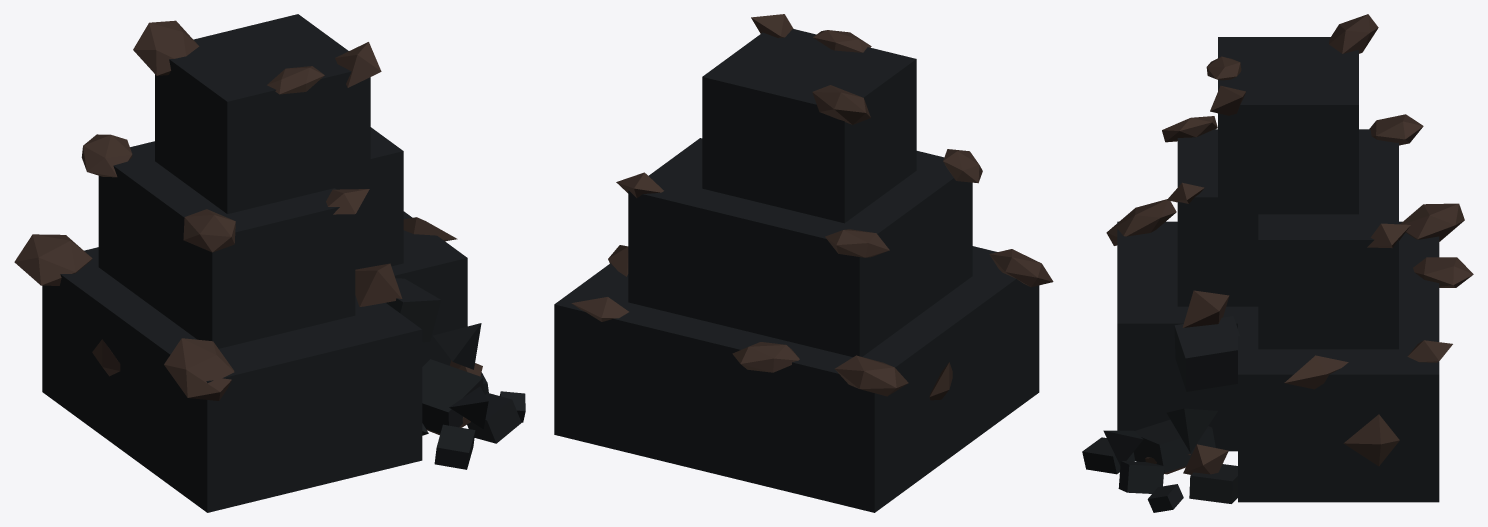
The model's file is env-ruin-block.glb.
The picture shows the model from 3 angles, left to right: view 1: azimuth 30°, elevation 25°; view 2: azimuth 150°, elevation 25°; view 3: azimuth 270°, elevation 25°; orthographic projection. The views are drawn at different scales.
Parts seen in each view (by area): view 1: tier1_wing, tier3, tier2_wing, tier1_main, tier2_main, coral_04, rubble_a, coral_01, coral_10, coral_08, tier1_broken_lip, coral_06 (+9 smaller); view 2: tier1_main, tier2_main, tier3, tier1_wing, tier2_wing, coral_01, coral_10, coral_02, coral_04, coral_06, coral_08, coral_12 (+3 smaller); view 3: tier1_main, tier3, tier2_main, tier1_wing, tier2_wing, tier1_broken_lip, rubble_a, coral_01, rubble_b, coral_04, coral_16, coral_02 (+16 smaller).
Part boxes in pixels (x1=…): tier1_wing: x1=145, y1=295, x2=422, y2=512; tier3: x1=155, y1=14, x2=370, y2=213; tier2_wing: x1=171, y1=188, x2=355, y2=348; tier1_main: x1=42, y1=211, x2=467, y2=466; tier2_main: x1=98, y1=127, x2=403, y2=319; coral_04: x1=164, y1=338, x2=234, y2=400; rubble_a: x1=422, y1=359, x2=483, y2=433; coral_01: x1=14, y1=234, x2=92, y2=285; coral_10: x1=133, y1=20, x2=199, y2=75; coral_08: x1=183, y1=209, x2=235, y2=252; tier1_broken_lip: x1=386, y1=278, x2=441, y2=342; coral_06: x1=81, y1=134, x2=132, y2=177; tier1_main: x1=554, y1=263, x2=977, y2=512; tier2_main: x1=628, y1=138, x2=931, y2=356; tier3: x1=702, y1=29, x2=916, y2=223; tier1_wing: x1=942, y1=246, x2=1039, y2=437; tier2_wing: x1=896, y1=151, x2=972, y2=305; coral_01: x1=835, y1=355, x2=908, y2=396; coral_10: x1=812, y1=85, x2=870, y2=124; coral_02: x1=732, y1=342, x2=799, y2=372; coral_04: x1=989, y1=249, x2=1053, y2=287; coral_06: x1=825, y1=229, x2=889, y2=257; coral_08: x1=943, y1=149, x2=982, y2=183; coral_12: x1=813, y1=30, x2=871, y2=52; tier1_main: x1=1238, y1=221, x2=1439, y2=502; tier3: x1=1218, y1=37, x2=1358, y2=214; tier2_main: x1=1258, y1=129, x2=1398, y2=349; tier1_wing: x1=1117, y1=221, x2=1237, y2=451; tier2_wing: x1=1177, y1=129, x2=1258, y2=306; tier1_broken_lip: x1=1174, y1=316, x2=1239, y2=391; rubble_a: x1=1133, y1=419, x2=1215, y2=472; coral_01: x1=1400, y1=203, x2=1464, y2=241; rubble_b: x1=1189, y1=464, x2=1237, y2=503; coral_04: x1=1106, y1=199, x2=1176, y2=245; coral_16: x1=1343, y1=414, x2=1399, y2=466; coral_02: x1=1413, y1=257, x2=1473, y2=287.
Bounding box in the file's own units: 25 × 24.97 × 23.61.
